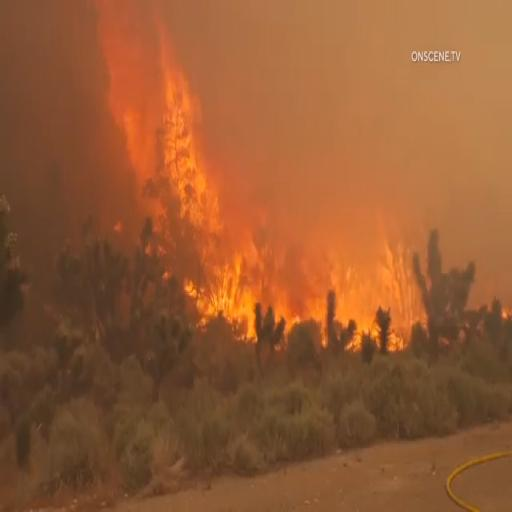fire: (206, 191, 425, 356), (118, 8, 221, 260)
